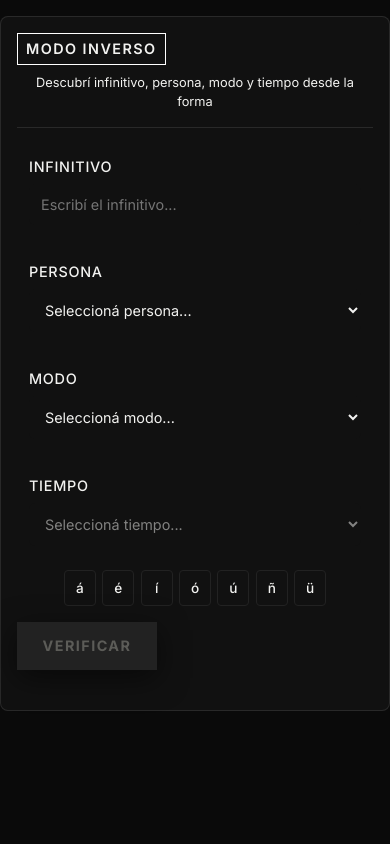
Test case: ReverseInputs › inserts special characters at the current cursor position
The image size is (390, 844).
Type "casa" into the field with placeholder "Escribí el infinitivo..." at (195, 204), box [29, 184, 361, 225]
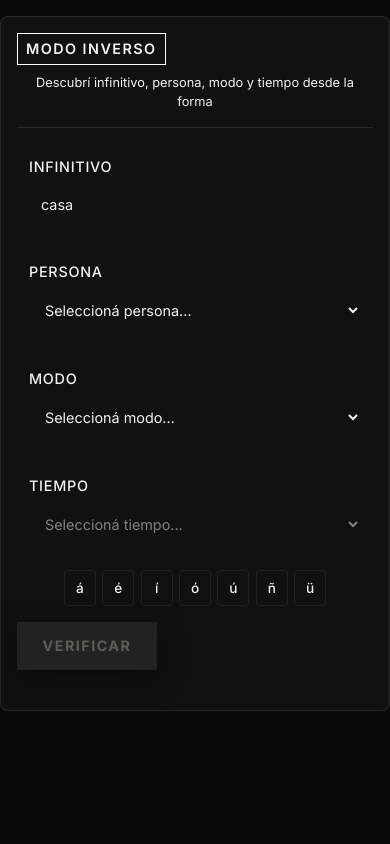
Click the button "á" at (80, 588), box [64, 570, 96, 606]
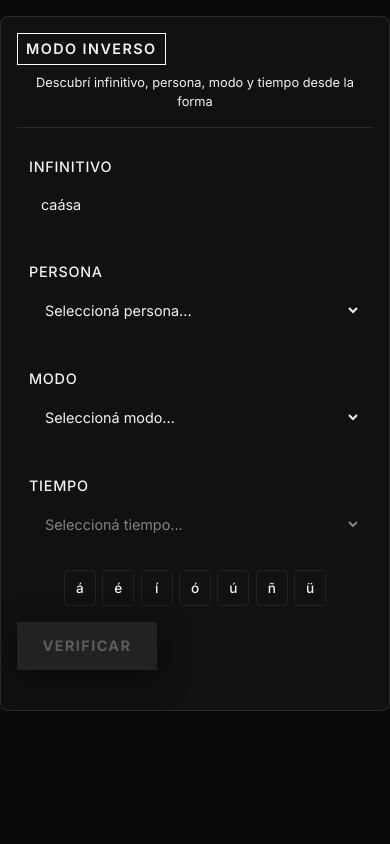
Expected: the field with placeholder "Escribí el infinitivo..." holds "caása", [29, 184, 361, 225]
